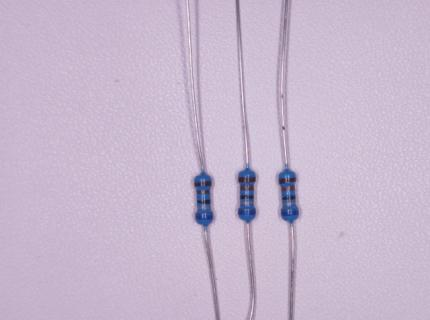Black band: (197, 200, 211, 204), (240, 195, 254, 199), (282, 196, 295, 200)
Blue band: (196, 213, 213, 220), (239, 208, 255, 215), (281, 210, 299, 216)
Brown band: (279, 178, 296, 184), (194, 181, 211, 186), (239, 177, 256, 182)
Grey band: (282, 201, 296, 206), (240, 201, 254, 205), (197, 206, 210, 210)
Orange band: (240, 186, 254, 191), (281, 186, 295, 191), (197, 190, 210, 194)
